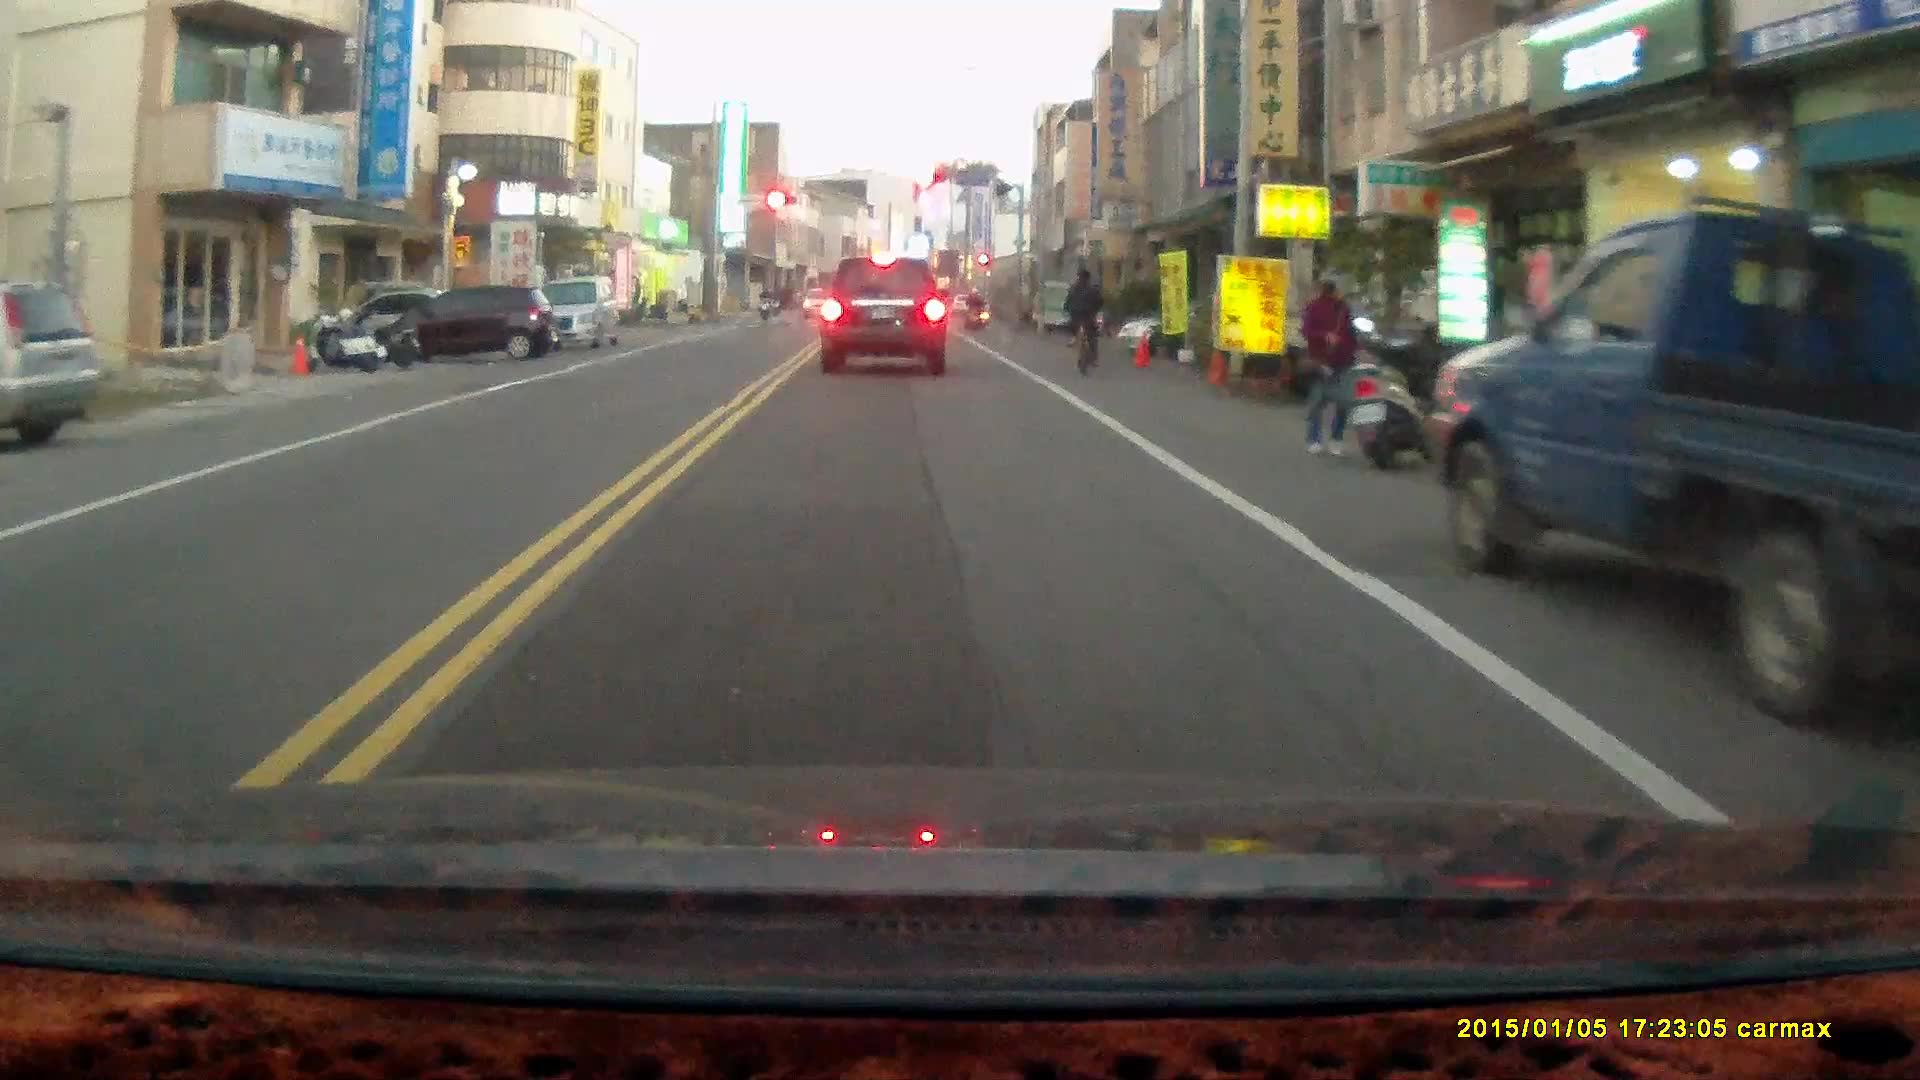pedestrian: (1296, 279, 1363, 469)
rider: (1058, 265, 1110, 375), (964, 286, 988, 333), (757, 288, 777, 322)
vehicle: (1435, 195, 1920, 735), (0, 277, 103, 456), (817, 256, 954, 375), (386, 282, 562, 366), (518, 274, 620, 356)
